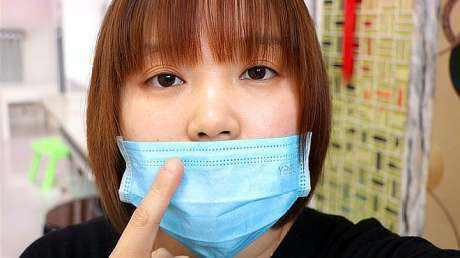WRONG: (118, 5, 302, 254)
